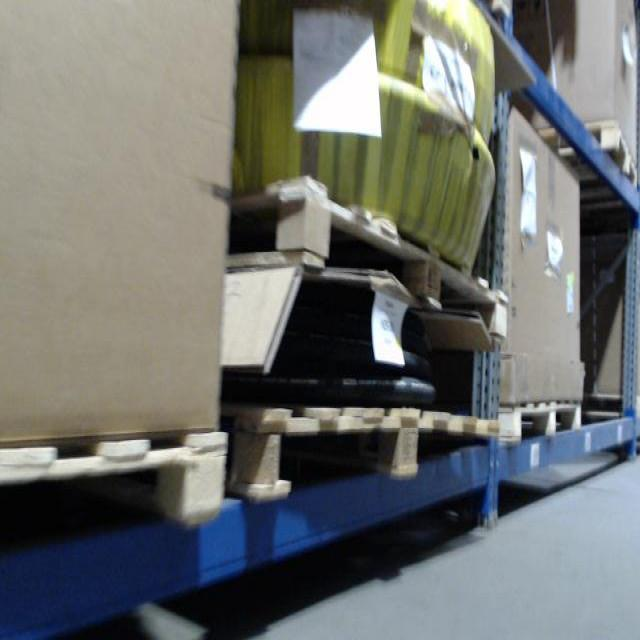pallet: (216, 175, 507, 340), (1, 424, 230, 557), (227, 407, 492, 503), (530, 113, 638, 208), (489, 396, 588, 449)
